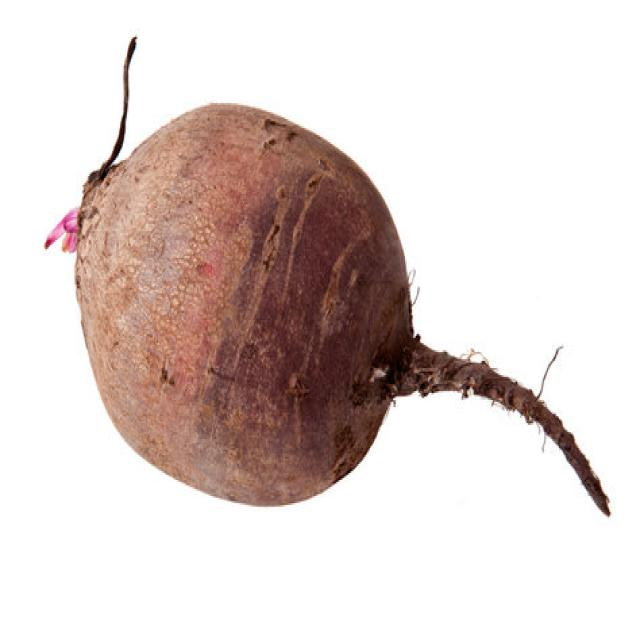Beetroot: (44, 34, 612, 517)
Onion: (44, 206, 78, 252)
